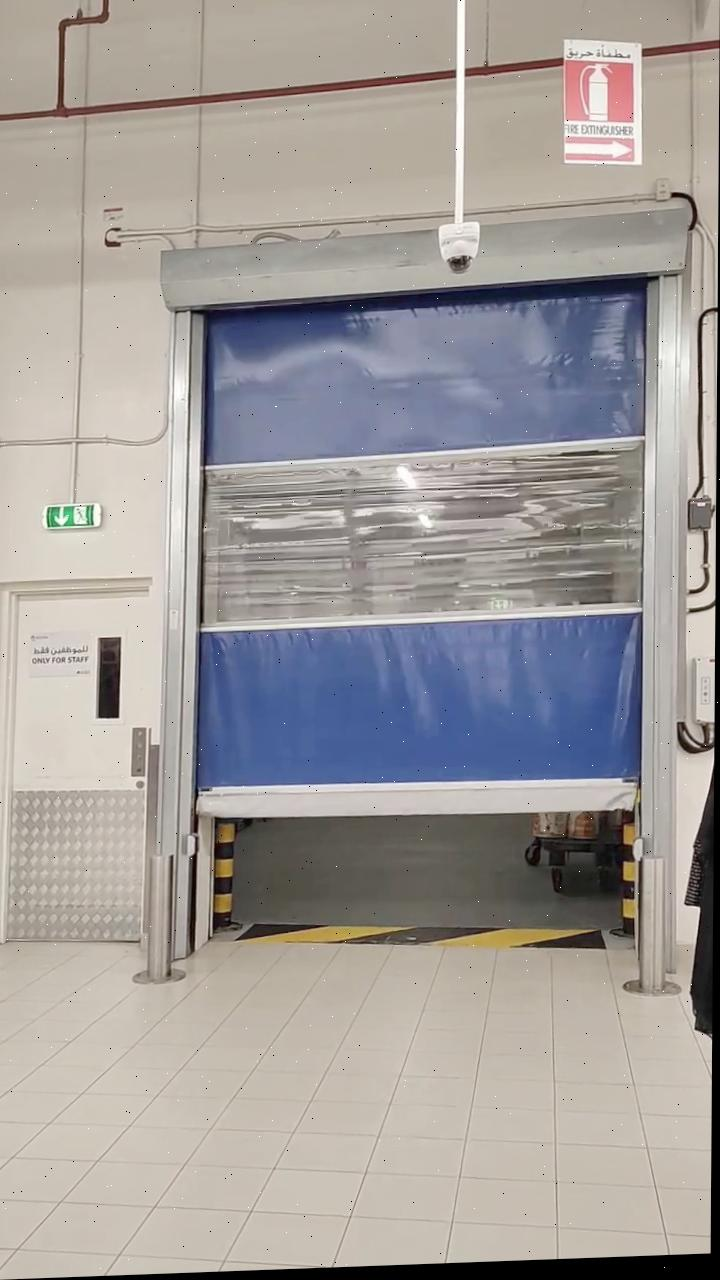Strip: (230, 905, 609, 965)
